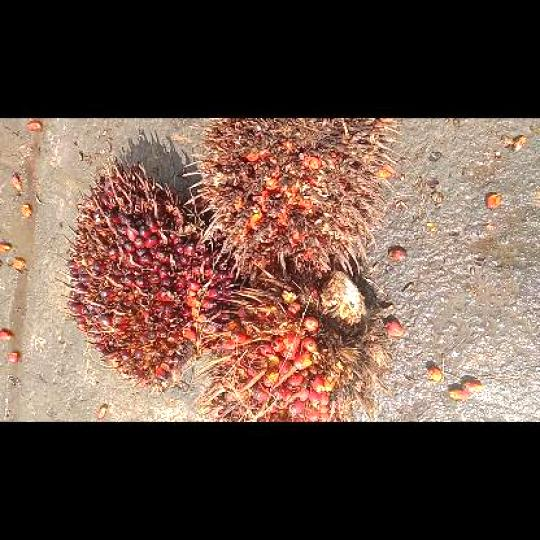masak: (56, 155, 240, 395), (190, 262, 389, 421)
terlalu masak: (184, 118, 403, 279)
